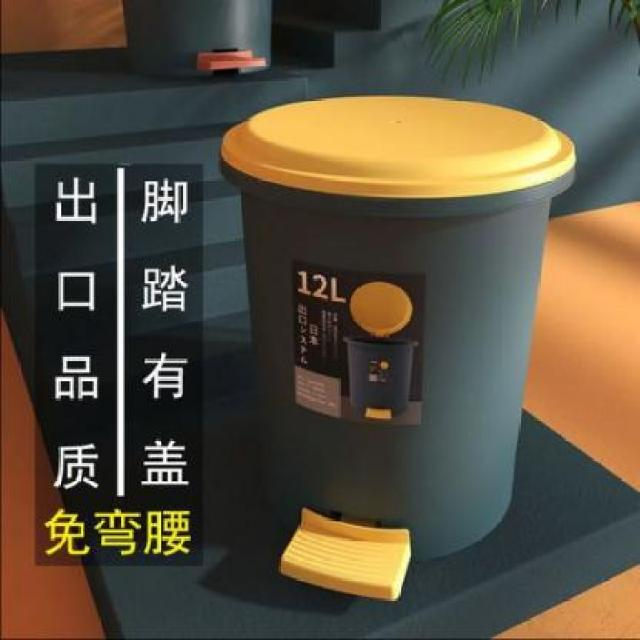dustbin: (212, 91, 582, 603)
